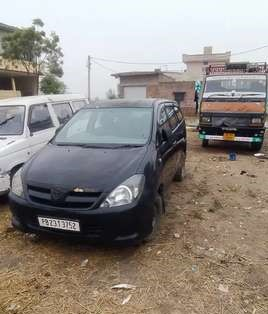PB2313752: (37, 216, 79, 231)
